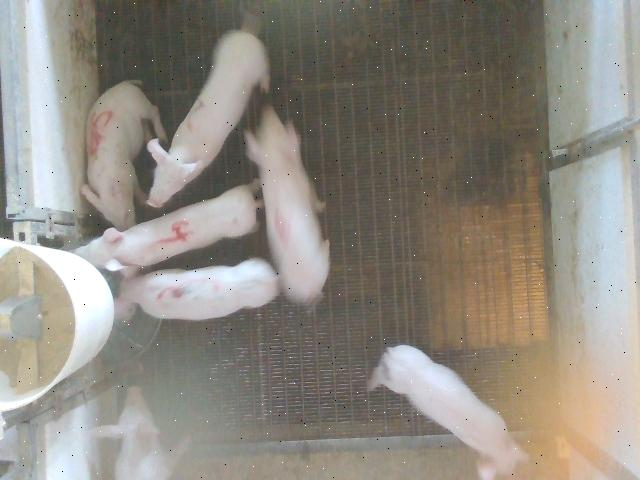pig-1: (245, 106, 329, 303)
pig-2: (148, 30, 269, 207)
pig-3: (114, 259, 280, 322)
pig-4: (74, 186, 256, 271)
pig-5: (81, 81, 166, 229)
